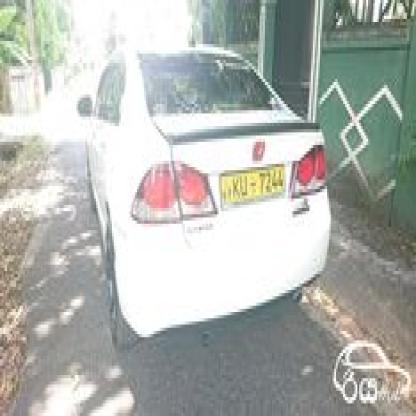car back: (75, 34, 335, 363)
number plate: (221, 165, 284, 205)
